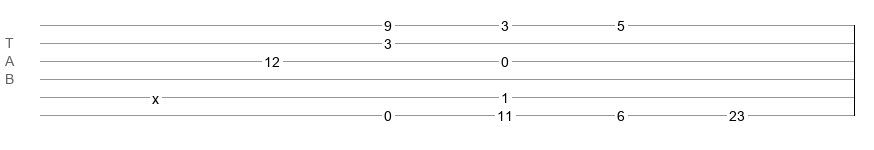0: (384, 108, 392, 118), (501, 54, 509, 64)
1: (501, 90, 509, 100)
11: (497, 108, 513, 118)
12: (264, 54, 280, 64)
23: (729, 108, 745, 118)
3: (384, 36, 392, 46), (501, 18, 509, 28)
5: (617, 18, 625, 28)
6: (617, 108, 625, 118)
9: (384, 18, 392, 28)
x: (152, 91, 159, 99)
